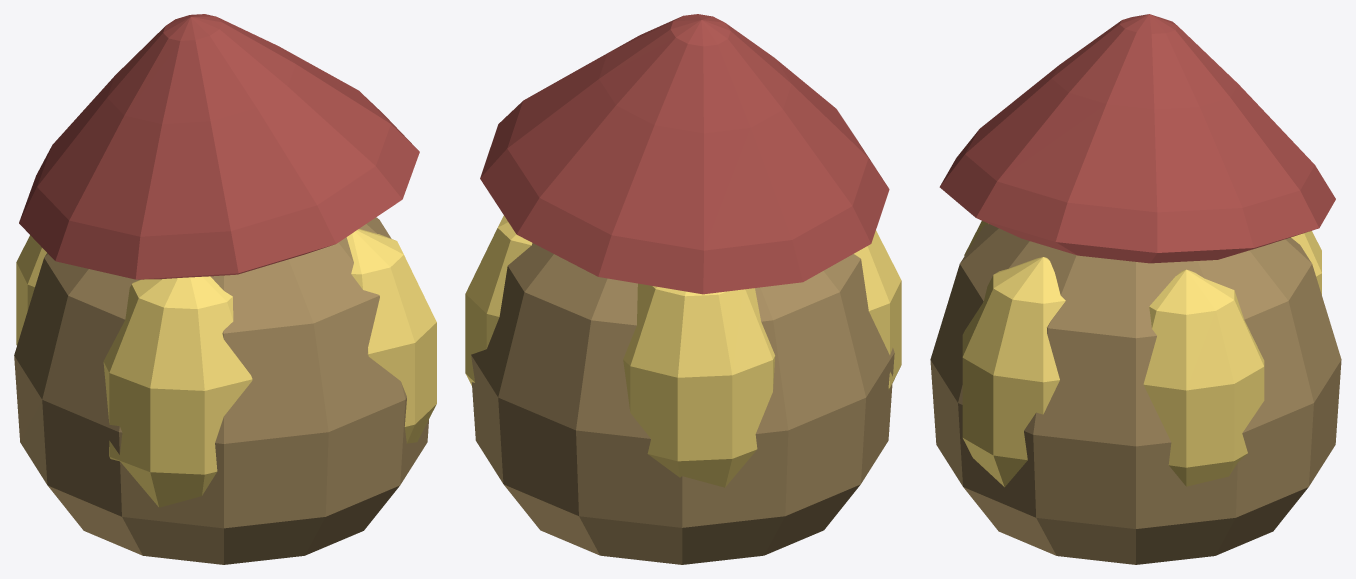
File: plant_boomshroom_b.obj
3 views of the same model, side by side, from view 1: azimuth 30°, elevation 25°; view 2: azimuth 150°, elevation 25°; view 3: azimuth 270°, elevation 25° (orthographic). The views are drawn at different scales.
Visible parts, largest first — view 1: plant_boomshroom_b_0, plant_boomshroom_b_5, plant_boomshroom_b_4, plant_boomshroom_b_1, plant_boomshroom_b_3; view 2: plant_boomshroom_b_0, plant_boomshroom_b_5, plant_boomshroom_b_3, plant_boomshroom_b_2, plant_boomshroom_b_4; view 3: plant_boomshroom_b_0, plant_boomshroom_b_5, plant_boomshroom_b_2, plant_boomshroom_b_1, plant_boomshroom_b_3.
Boxes of the visible parts, box(x1,y1,x2,y2) form: plant_boomshroom_b_0: box(14, 217, 428, 564); plant_boomshroom_b_5: box(19, 14, 419, 279); plant_boomshroom_b_4: box(103, 276, 252, 507); plant_boomshroom_b_1: box(346, 229, 436, 443); plant_boomshroom_b_3: box(16, 235, 46, 345); plant_boomshroom_b_0: box(471, 243, 894, 564); plant_boomshroom_b_5: box(480, 14, 889, 294); plant_boomshroom_b_3: box(623, 283, 775, 487); plant_boomshroom_b_2: box(465, 215, 532, 385); plant_boomshroom_b_4: box(854, 230, 901, 389); plant_boomshroom_b_0: box(930, 224, 1341, 564); plant_boomshroom_b_5: box(939, 14, 1335, 263); plant_boomshroom_b_2: box(1143, 269, 1264, 486); plant_boomshroom_b_1: box(962, 257, 1065, 487); plant_boomshroom_b_3: box(1291, 231, 1321, 294).
Bounding box in the file's own units: 0.7 × 0.8858 × 0.7.
